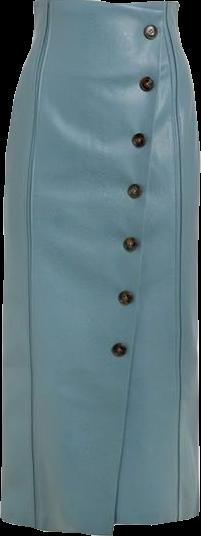Hemline: (0, 510, 200, 535)
Waistline: (33, 0, 179, 4)
